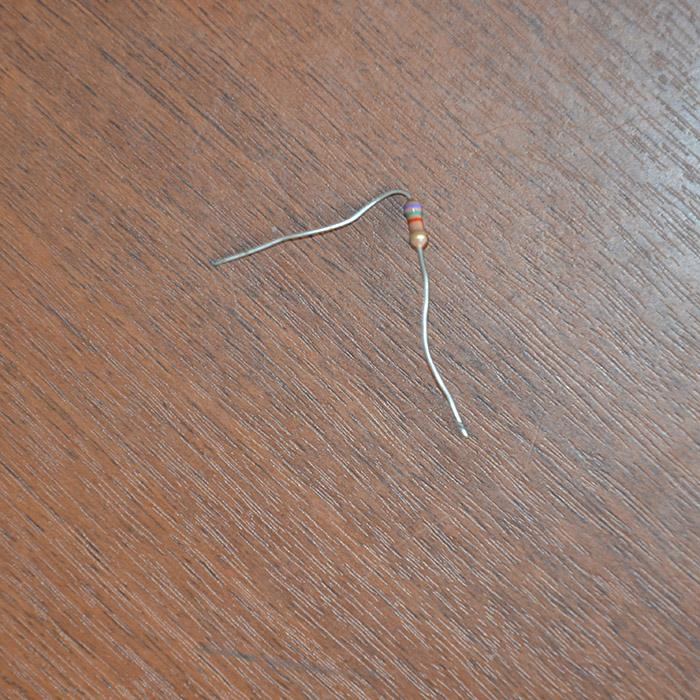resistor: (403, 199, 428, 250)
